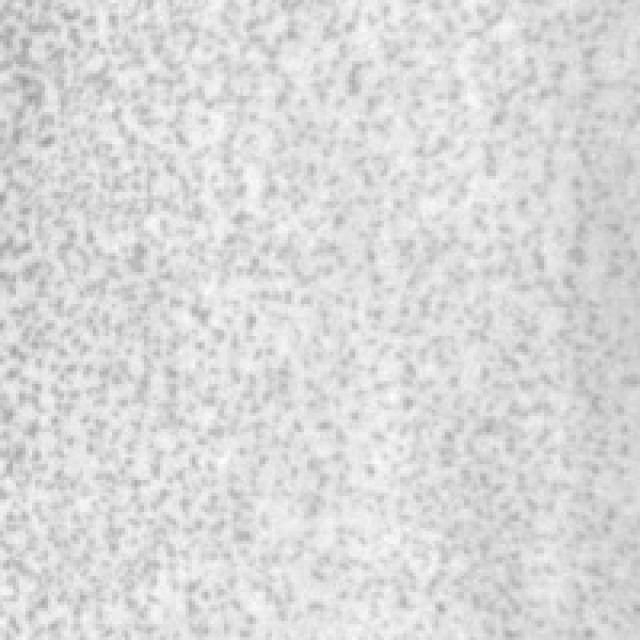pitted_surface: (3, 13, 621, 621)
